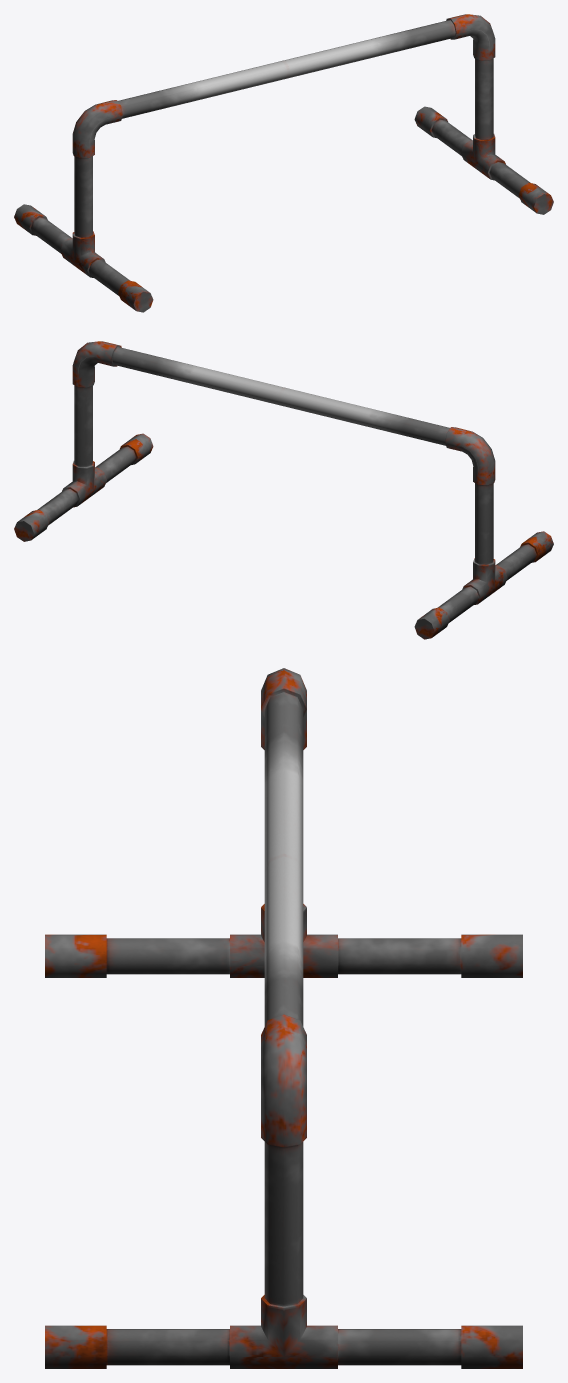
The model's file is railing.gltf.
3 renders of one model, top to bottom at view 1: azimuth 30°, elevation 25°; view 2: azimuth 150°, elevation 25°; view 3: azimuth 270°, elevation 25°, orthographic. The views are drawn at different scales.
Parts seen in each view (by area): view 1: Railing; view 2: Railing; view 3: Railing.
Part boxes in pixels (bbox=[...]): Railing: bbox=[14, 14, 553, 312]; Railing: bbox=[14, 341, 553, 639]; Railing: bbox=[45, 668, 522, 1368].
Size of the model in its own units: 41.34 by 15.09 by 20.34.
Materials: 1 (1 with a texture image).
